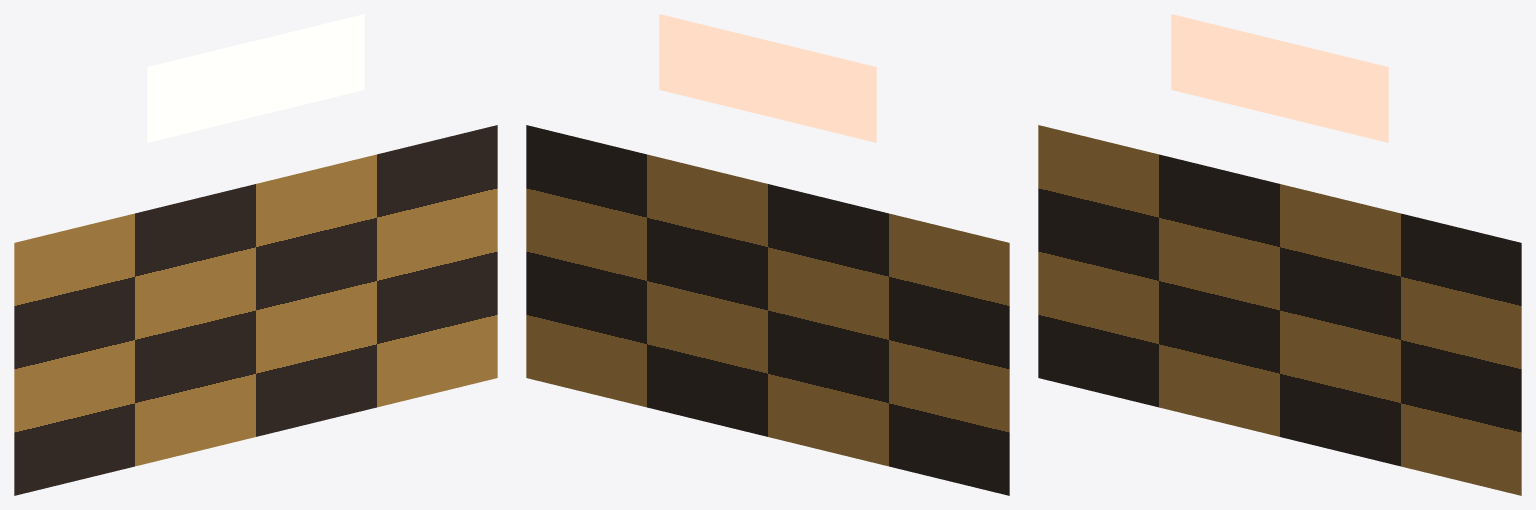
Rendered from robot.gltf.
The picture shows the model from 3 angles, left to right: view 1: azimuth 30°, elevation 25°; view 2: azimuth 150°, elevation 25°; view 3: azimuth 330°, elevation 25°; orthographic projection.
Visible parts, largest first — view 1: Body, Banner; view 2: Body, Banner; view 3: Body, Banner.
Boxes of the visible parts, <box> form: Body: <box>14,125,497,495</box>; Banner: <box>147,14,364,142</box>; Body: <box>526,125,1009,495</box>; Banner: <box>659,14,876,142</box>; Body: <box>1038,125,1521,495</box>; Banner: <box>1171,14,1388,142</box>.
Bounding box in the file's own units: 240 × 188 × 0.
2 materials, 1 textured.
